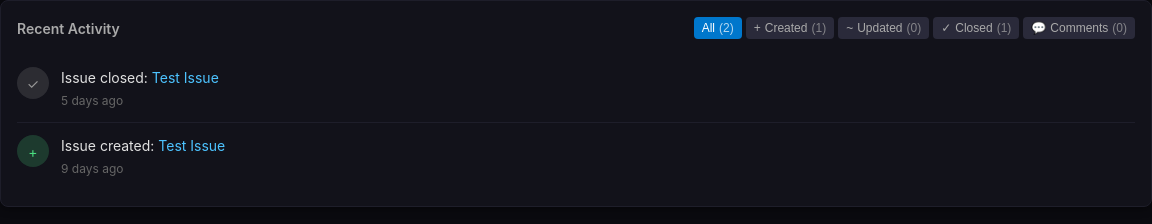
Test: ActivityFeed › filtering › filters to show only created activities
The image size is (1152, 224).
Click the button "+Created(1)".
click(790, 28)  # box [746,17,834,39]
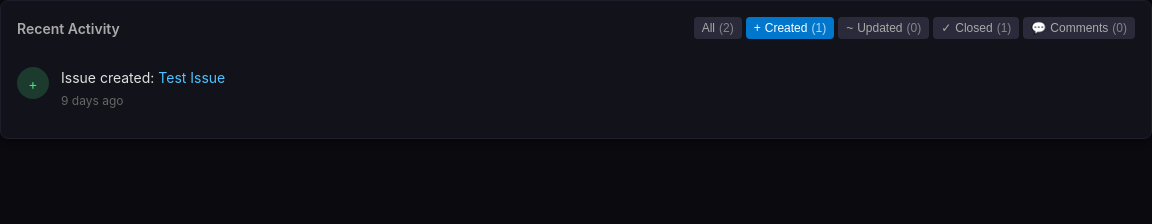
Expected: the text "Issue created:" is shown, [61,69,225,86]
Now the text "Issue closed:" is gone
